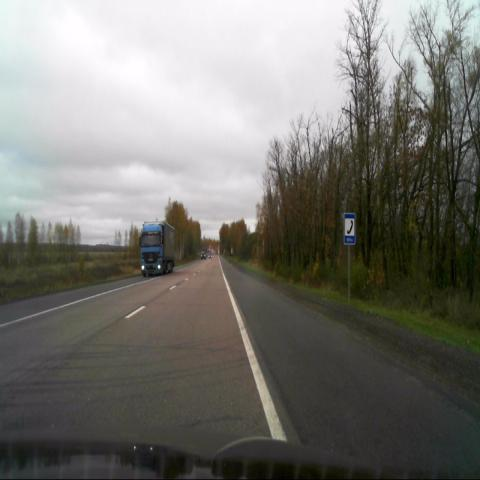7_6: (344, 212, 356, 246)
